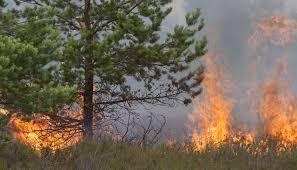fire: (182, 27, 293, 153), (0, 93, 87, 155)
